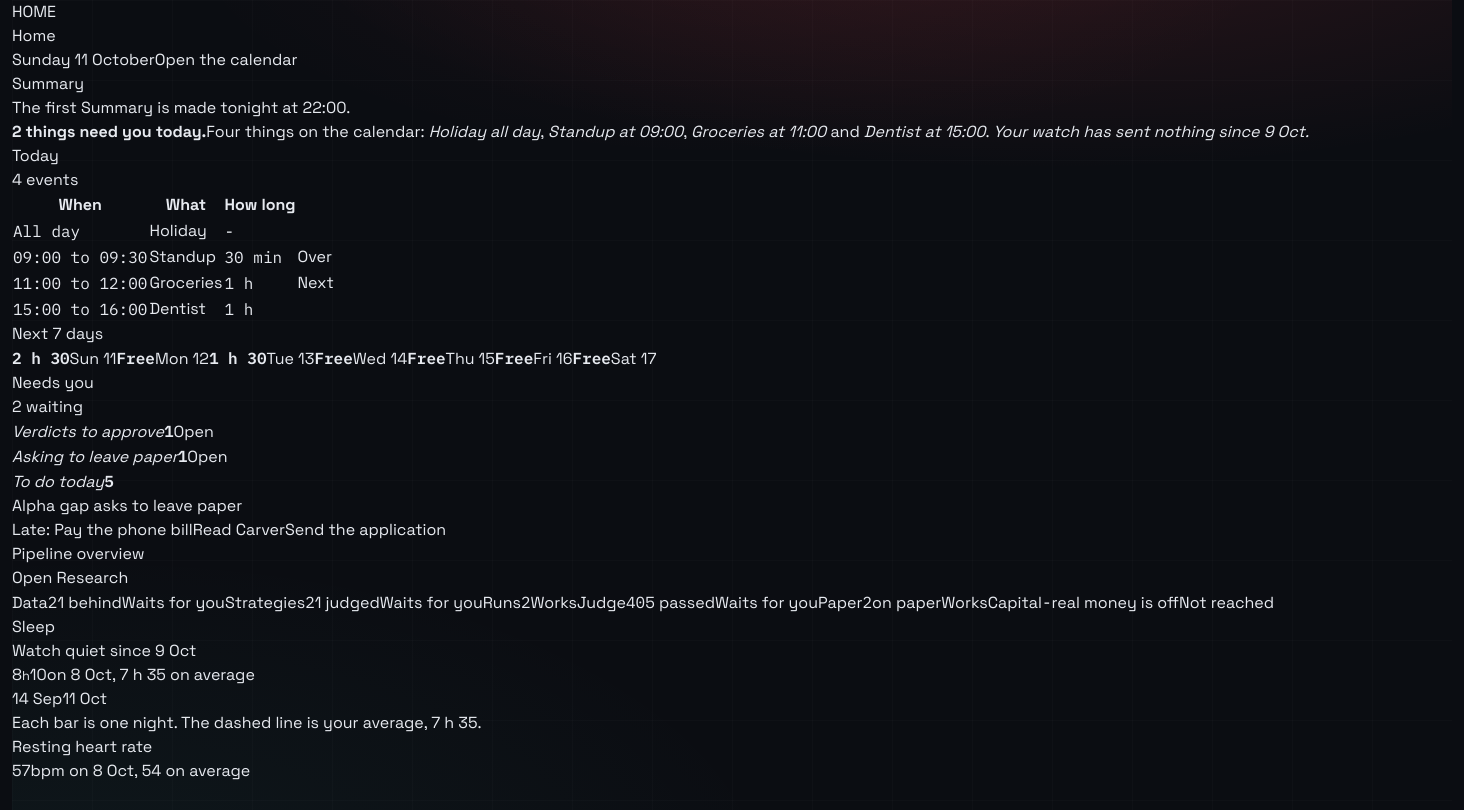
Scenario: Home overview, round six › l1 the lab: the six stations by the shared rule, each opening its page
Click the button with aria-label "Judge: Waits for you. 1 run passed and waits for your approv" at x=698, y=602, box [577,590,818,615]
(page scrolled)
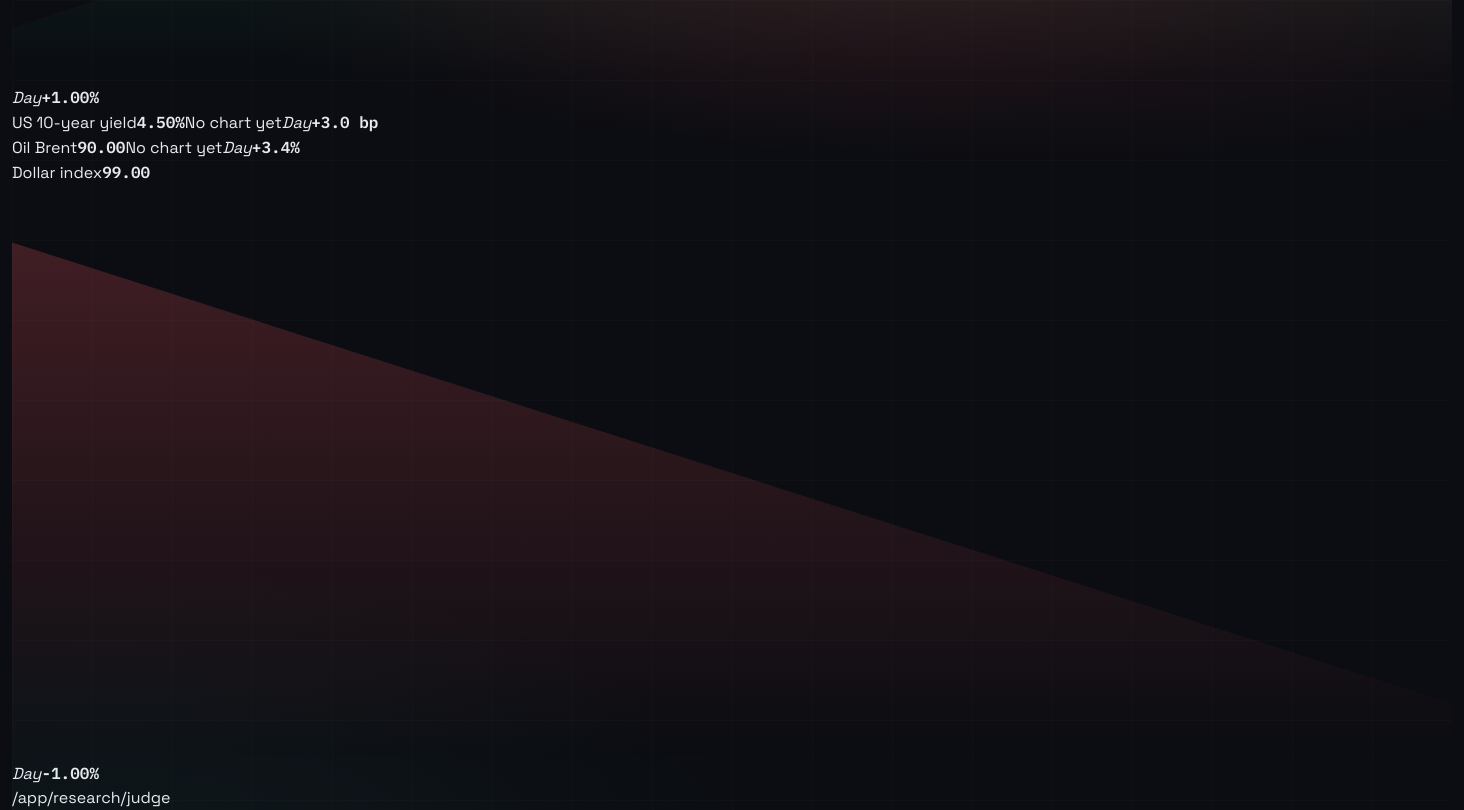
Check: the text with test id "where" reads "/app/research/judge", box [12,787,171,808]
